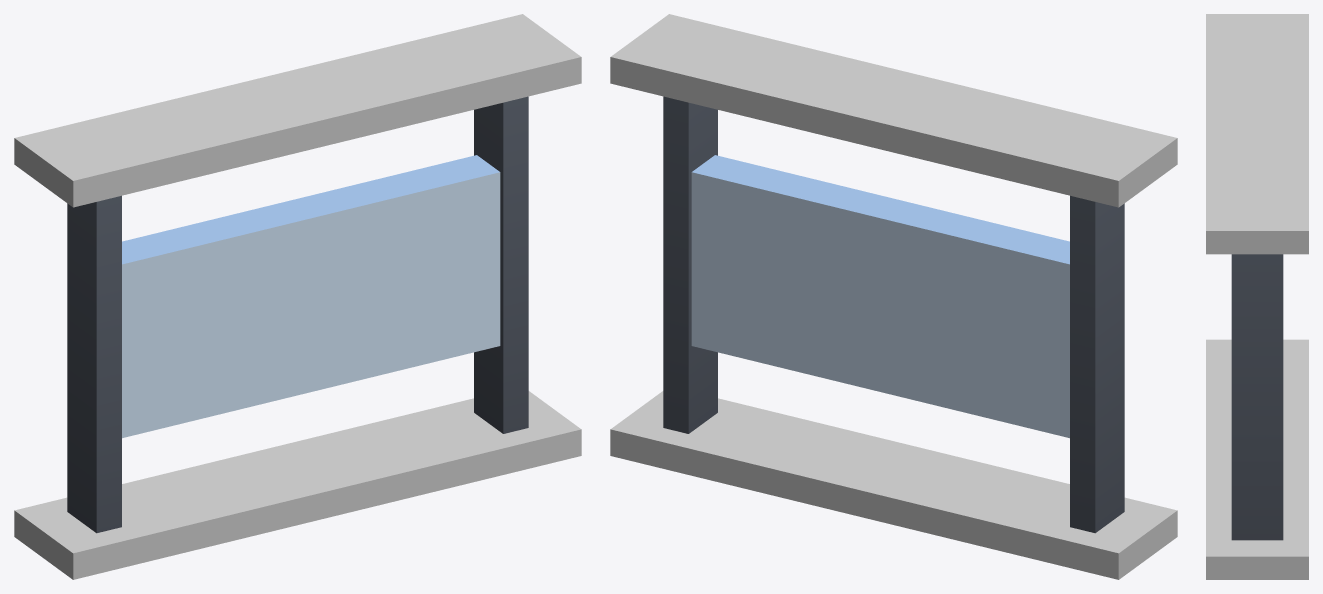
Rendered from Glass_Railing_1.fbx.
3 renders of one model, left to right at view 1: azimuth 30°, elevation 25°; view 2: azimuth 150°, elevation 25°; view 3: azimuth 270°, elevation 25°, orthographic. The views are drawn at different scales.
Parts seen in each view (by area): view 1: Cube.079; view 2: Cube.079; view 3: Cube.079.
Part boxes in pixels (bbox=[...]): Cube.079: bbox=[14, 14, 581, 579]; Cube.079: bbox=[610, 14, 1177, 579]; Cube.079: bbox=[1206, 14, 1308, 579].
Bounding box in the file's own units: 100 × 75 × 20.
